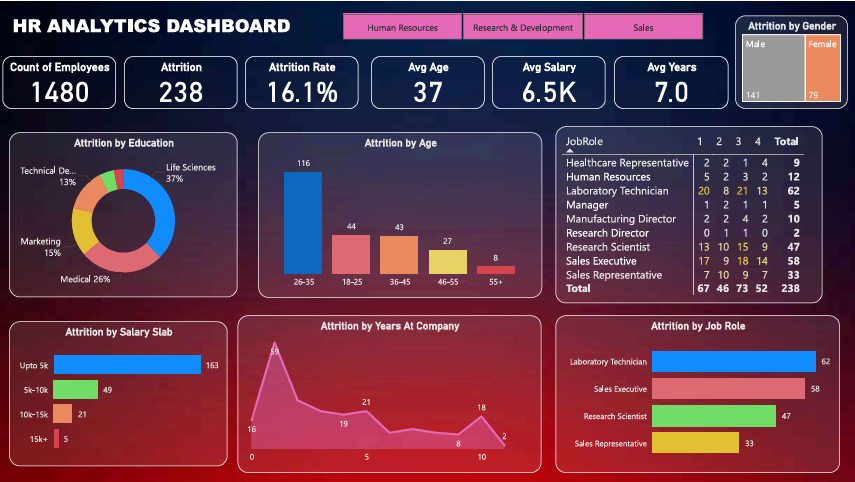

What the dashboard file says about the page in this screenshot:
{"tool":"powerbi","page":{"name":"Page 1","canvas":[1280,720],"ordinal":0},"visuals":[{"type":"card","title":"Count of Employees","fields":{"Values":["CountNonNull(HR_Analytics.EmpID)"]},"box":[3,82.1,170.1,79.1],"z":0},{"type":"card","title":"Attrition ","fields":{"Values":["Sum(HR_Analytics.Attrition_count)"]},"box":[185.1,82.1,170.1,79.1],"z":1000},{"type":"card","title":"Avg Age","fields":{"Values":["Avg(HR_Analytics.Age)"]},"box":[555.2,82.1,170.1,79.1],"z":2000},{"type":"card","title":"Attrition Rate","fields":{"Values":["HR_Analytics.Attritionrate"]},"box":[365.7,82.1,170.1,79.1],"z":3000},{"type":"card","title":"Avg Years","fields":{"Values":["Avg(HR_Analytics.YearsAtCompany)"]},"box":[919.4,82.1,170.1,79.1],"z":4000},{"type":"card","title":"Avg Salary","fields":{"Values":["Avg(HR_Analytics.MonthlyIncome)"]},"box":[735.8,82.1,170.1,79.1],"z":5000},{"type":"donutChart","title":"Attrition by Education","fields":{"Category":["HR_Analytics.EducationField"],"Y":["Sum(HR_Analytics.Attrition_count)"]},"box":[13.4,195.5,341.8,247.8],"z":6000},{"type":"columnChart","title":"Attrition by Age","fields":{"Category":["HR_Analytics.AgeGroup"],"Y":["Sum(HR_Analytics.Attrition_count)"]},"box":[385.9,195.8,424.8,247.7],"z":7000},{"type":"pivotTable","fields":{"Rows":["HR_Analytics.JobRole"],"Columns":["HR_Analytics.JobSatisfaction"],"Values":["Sum(HR_Analytics.Attrition_count)"]},"box":[831.3,186.6,400,265.7],"z":8000},{"type":"barChart","title":"Attrition by Salary Slab","fields":{"Category":["HR_Analytics.SalarySlab"],"Y":["Sum(HR_Analytics.Attrition_count)"]},"box":[13.4,479.1,326.9,216.4],"z":9000},{"type":"barChart","title":"Attrition by Job Role","fields":{"Category":["HR_Analytics.JobRole"],"Y":["Sum(HR_Analytics.Attrition_count)"]},"box":[831.3,470.1,425.4,235.8],"z":10000},{"type":"areaChart","title":"Attrition by Years At Company","fields":{"Category":["HR_Analytics.YearsAtCompany"],"Y":["Sum(HR_Analytics.Attrition_count)"]},"box":[355.2,470.1,455.2,235.8],"z":11000},{"type":"treemap","title":"Attrition by Gender","fields":{"Group":["HR_Analytics.Gender"],"Values":["Sum(HR_Analytics.Attrition_count)"]},"box":[1100,20.9,168.7,140.3],"z":12000},{"type":"slicer","fields":{"Values":["HR_Analytics.Department"]},"box":[486.6,11.9,589.6,52.2],"z":13000},{"type":"textbox","box":[13.4,11.9,450.7,52.2],"z":14000}]}

Visuals, with their boxes in screenshot pixels (x1, y1, x2, y2), scaled from the page's 1280x720 canvas onto the 855x482 screenshot:
"Count of Employees" card: (left=2, top=55, right=116, bottom=108)
"Attrition " card: (left=124, top=55, right=237, bottom=108)
"Avg Age" card: (left=371, top=55, right=484, bottom=108)
"Attrition Rate" card: (left=244, top=55, right=358, bottom=108)
"Avg Years" card: (left=614, top=55, right=728, bottom=108)
"Avg Salary" card: (left=491, top=55, right=605, bottom=108)
"Attrition by Education" donutChart: (left=9, top=131, right=237, bottom=297)
"Attrition by Age" columnChart: (left=258, top=131, right=542, bottom=297)
pivotTable - HR_Analytics.JobRole x HR_Analytics.JobSatisfaction: (left=555, top=125, right=822, bottom=303)
"Attrition by Salary Slab" barChart: (left=9, top=321, right=227, bottom=466)
"Attrition by Job Role" barChart: (left=555, top=315, right=839, bottom=473)
"Attrition by Years At Company" areaChart: (left=237, top=315, right=541, bottom=473)
"Attrition by Gender" treemap: (left=735, top=14, right=847, bottom=108)
slicer - HR_Analytics.Department: (left=325, top=8, right=719, bottom=43)
textbox: (left=9, top=8, right=310, bottom=43)
